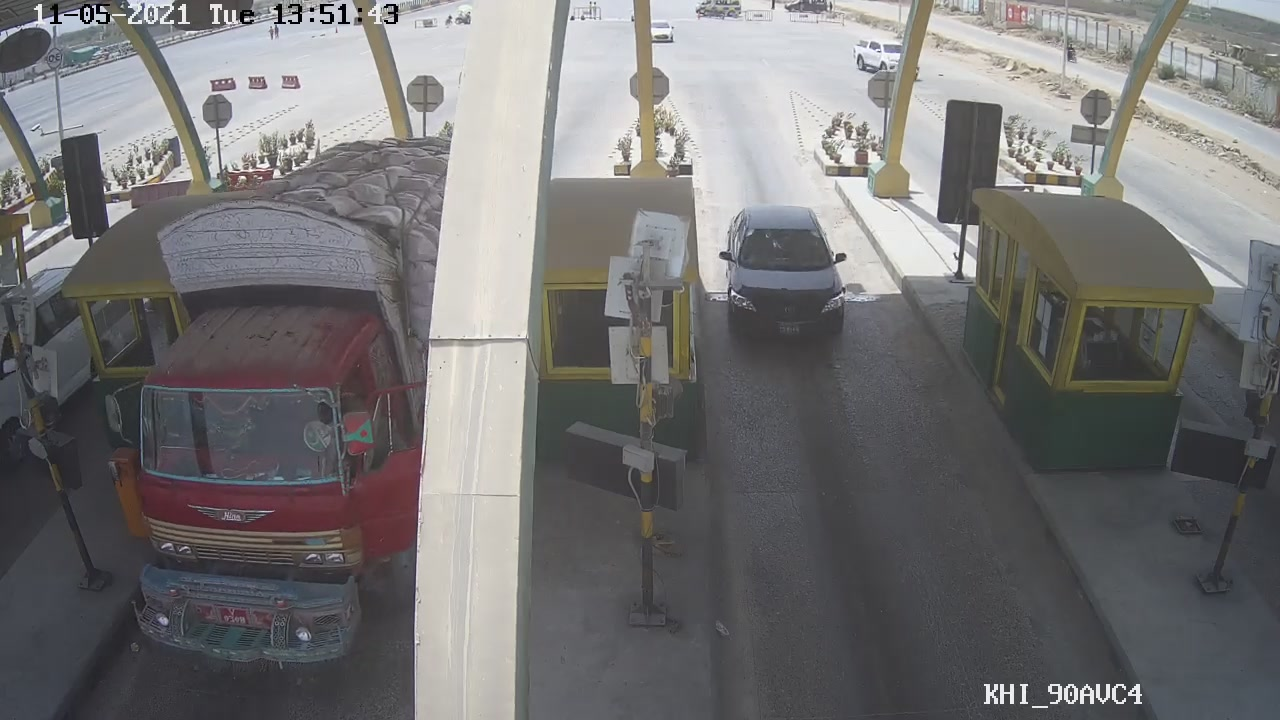F1: (713, 195, 849, 359)
